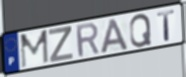A: (100, 18, 130, 55)
M: (19, 28, 50, 70)
Q: (129, 12, 153, 49)
R: (74, 21, 101, 59)
T: (156, 8, 176, 43)
Z: (48, 25, 75, 64)
